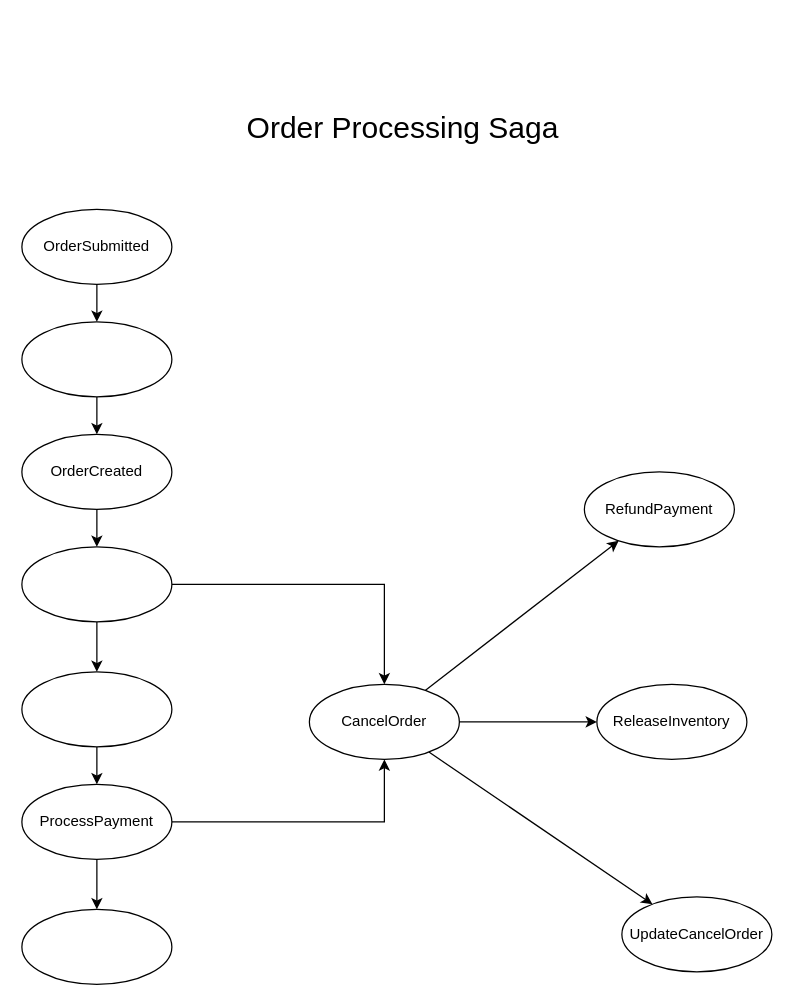
Some shapes in this 794 by 1006 pixel diagram are drawn without their labels. Here are the shapes that lost their labels. From the top down, the centre of each, then its label:
At point (96, 359): "CreateOrder".
At point (96, 584): "InventoryReserve".
At point (96, 709): "InventoryReserved".
At point (96, 946): "PaymentProcessed".
